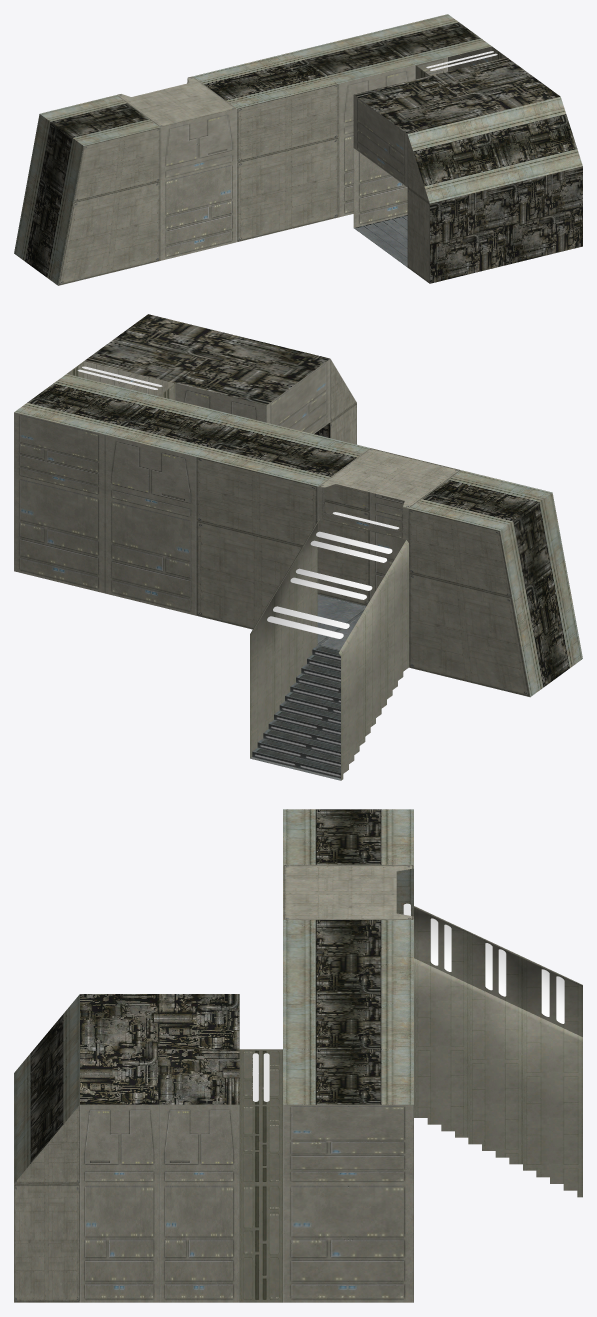
Rendered from thm_tato_lucky_despot_r1_foyer01_mesh_r1.fbx.
3 renders of one model, top to bottom at view 1: azimuth 30°, elevation 25°; view 2: azimuth 150°, elevation 25°; view 3: azimuth 270°, elevation 25°, orthographic. The views are drawn at different scales.
Parts seen in each view (by area): view 1: mesh_node; view 2: mesh_node; view 3: mesh_node.
Part boxes in pixels (bbox=[...]): mesh_node: bbox=[14, 14, 582, 285]; mesh_node: bbox=[14, 314, 582, 780]; mesh_node: bbox=[14, 809, 582, 1302].
Size of the model in its own units: 17 by 7 by 13.03.
